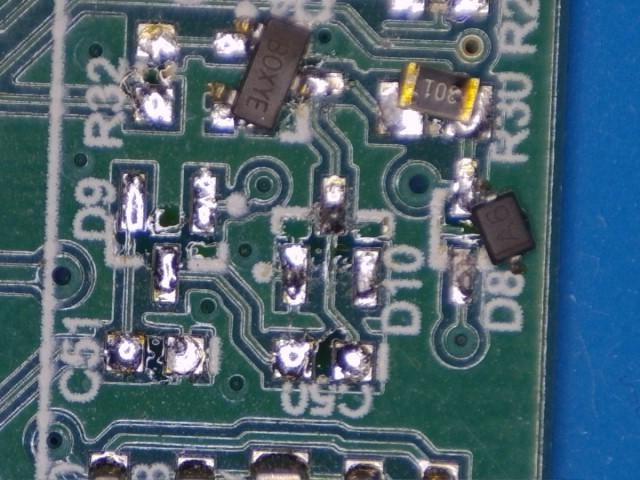pcb_defect: (210, 15, 344, 130), (452, 157, 536, 275), (377, 61, 493, 140)
